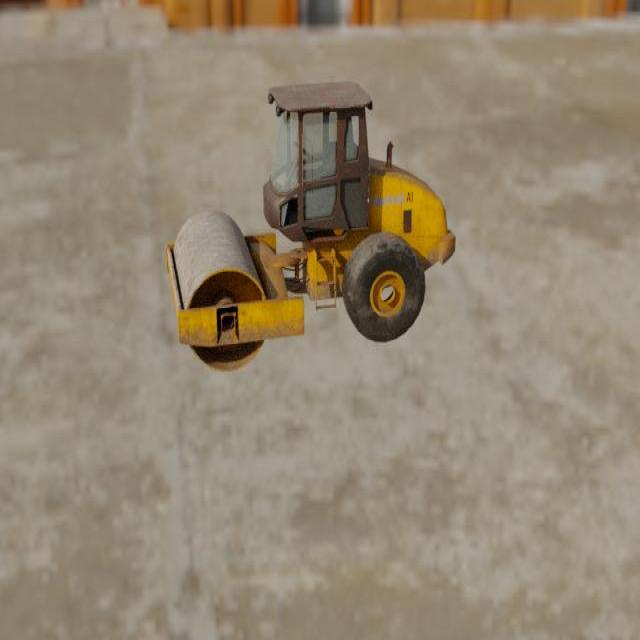Roller: (165, 80, 456, 372)
